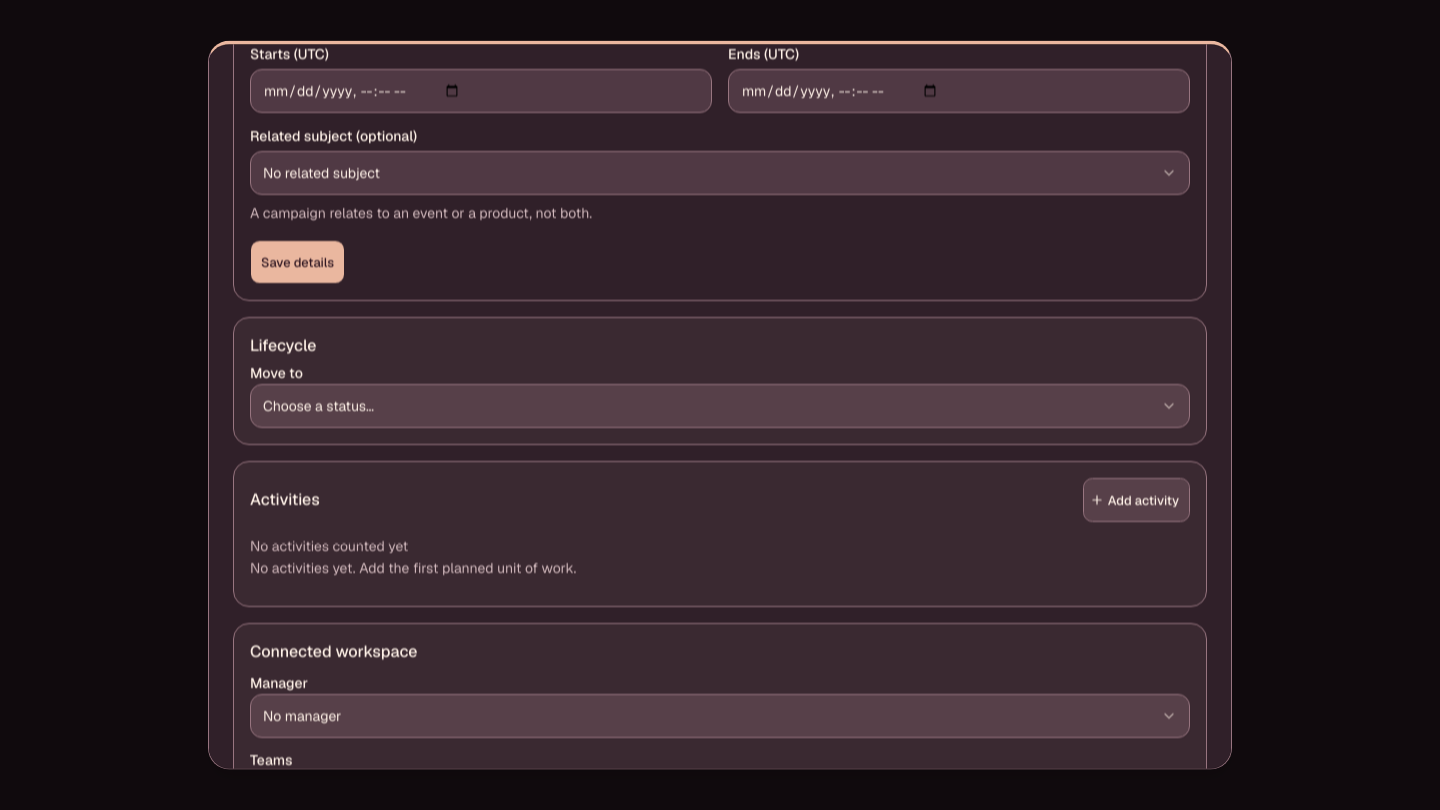
Scenario: CampaignDetailDialog › lifecycle › offers only the moves the lifecycle allows from each status
The image size is (1440, 810).
(page scrolled)
Click the dropdown named "Move to" at {"x": 319, "y": 407}, box x1=250 y1=385 x2=1190 y2=429
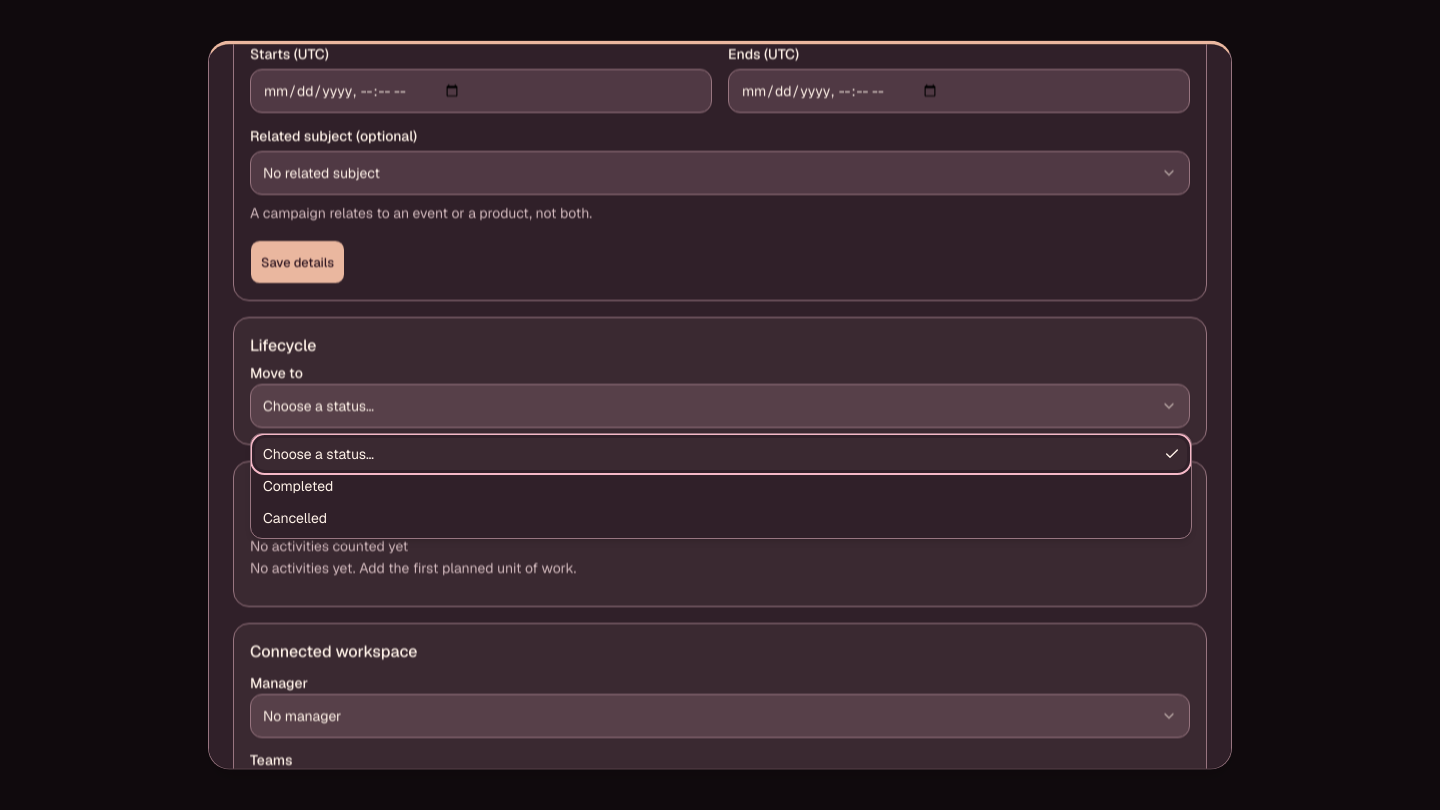
Check: the options read "Choose a status…", "Completed", "Cancelled", in this order, box x1=255 y1=438 x2=1187 y2=470; x1=263 y1=477 x2=333 y2=495; x1=263 y1=509 x2=327 y2=527
